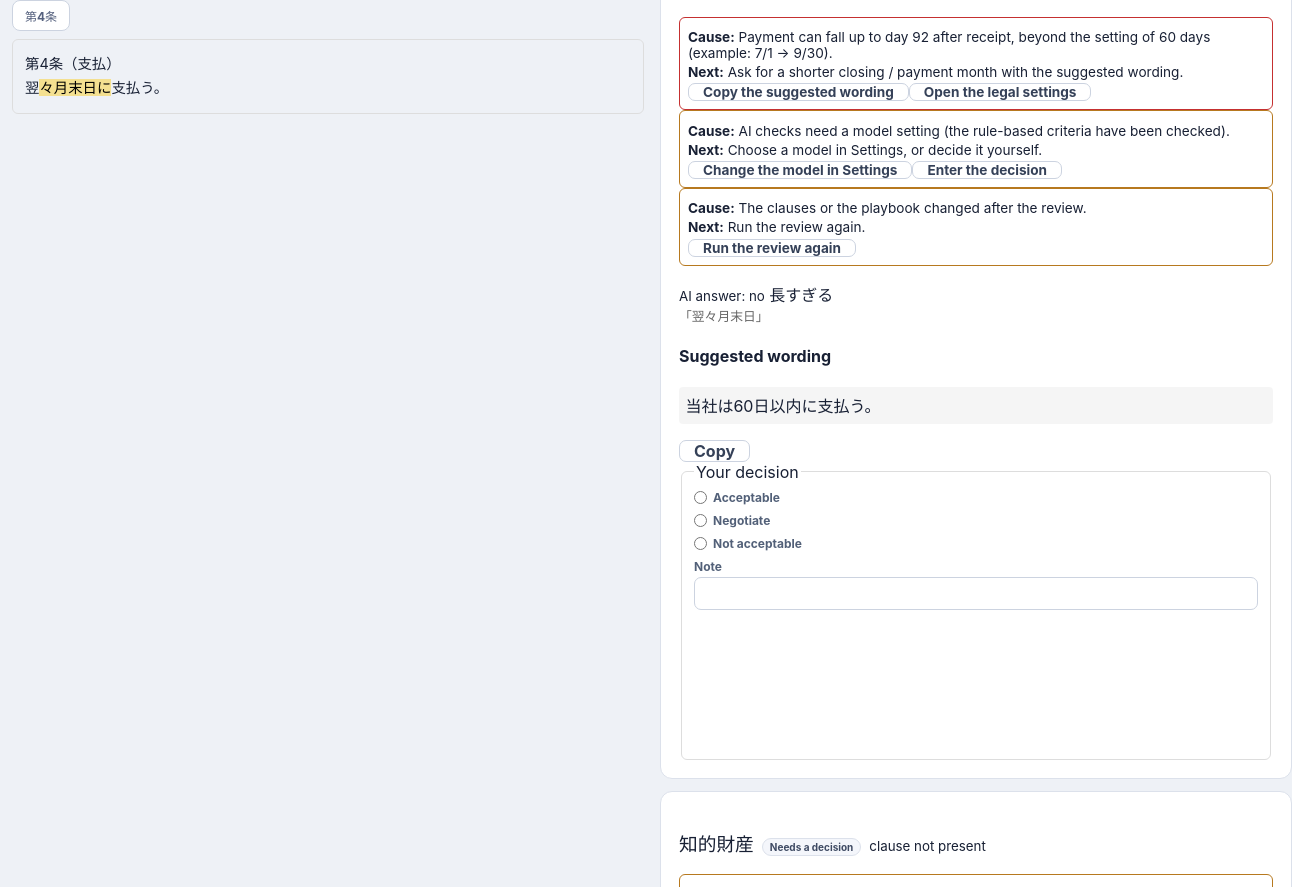
Test: ReviewStep: 結果 › 例外: クリップボードが使えない環境でもコピーで落ちない
The image size is (1292, 887).
(page scrolled)
Click the button "Copy" at (715, 451), box [679,440,750,462]
(page scrolled)
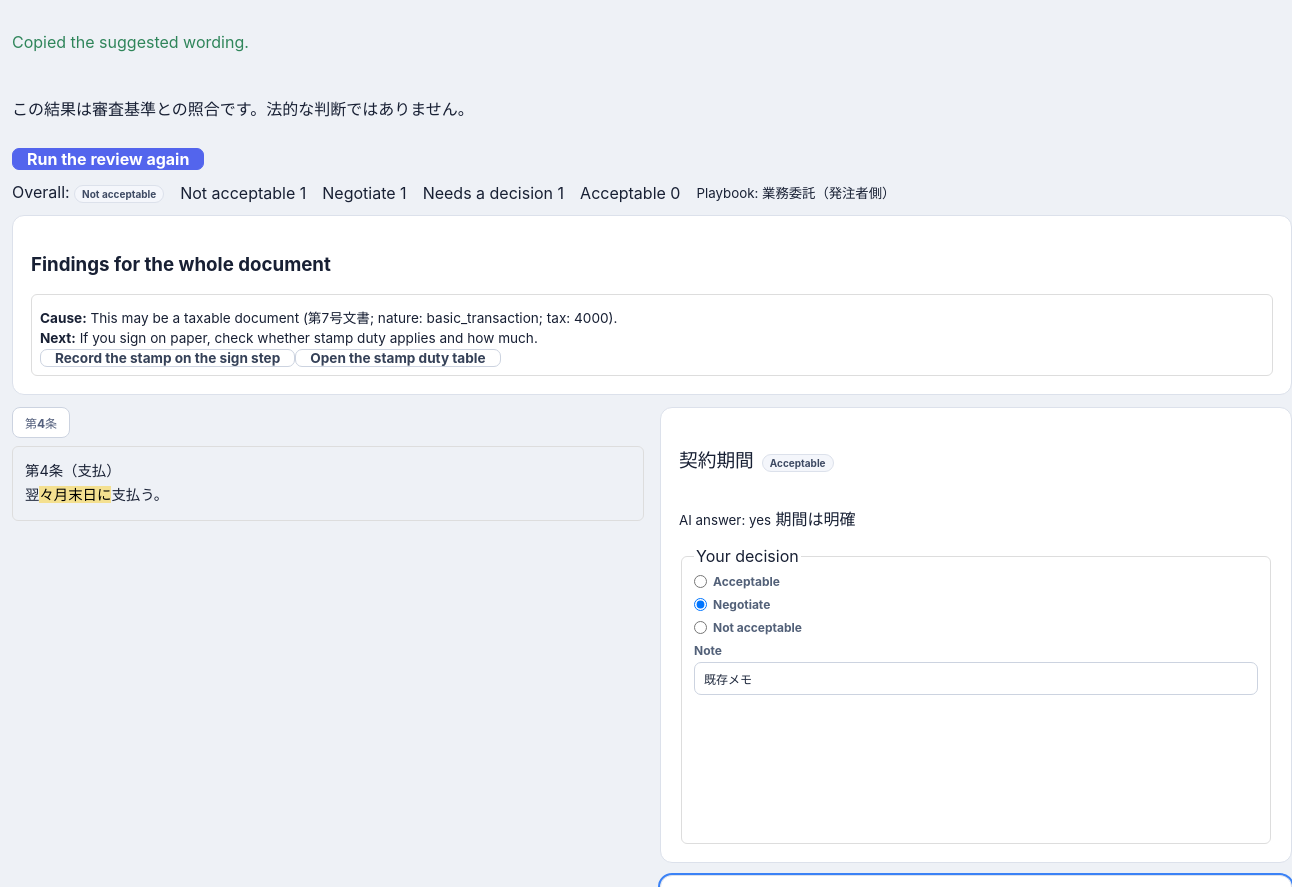
expect the text "Copied the suggested wording." is shown: met, box [12,32,249,52]
